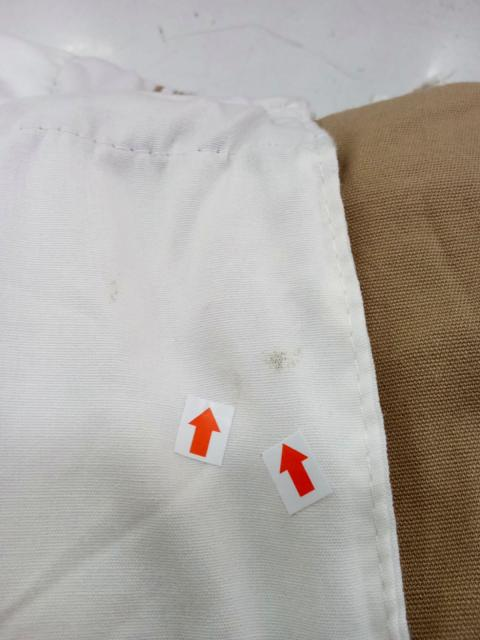Dirty_mark: (269, 350, 306, 375), (109, 282, 122, 313), (231, 373, 246, 397)
